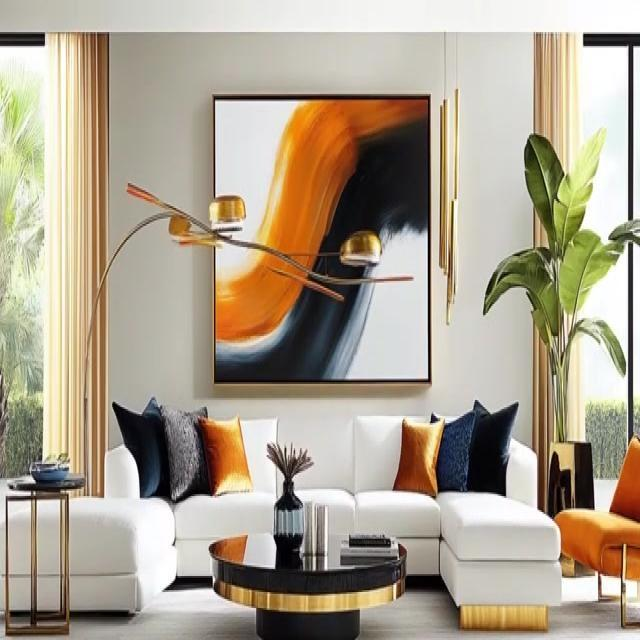obstacle: (103, 412, 562, 604), (208, 530, 407, 638), (553, 433, 639, 628), (4, 471, 85, 635)
